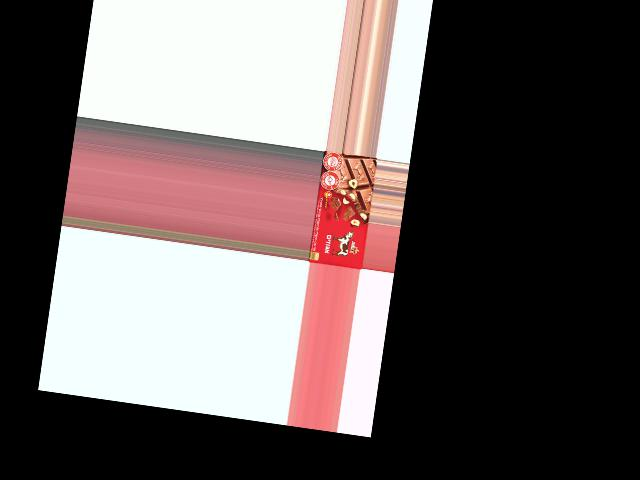chocolate: (309, 151, 377, 270)
